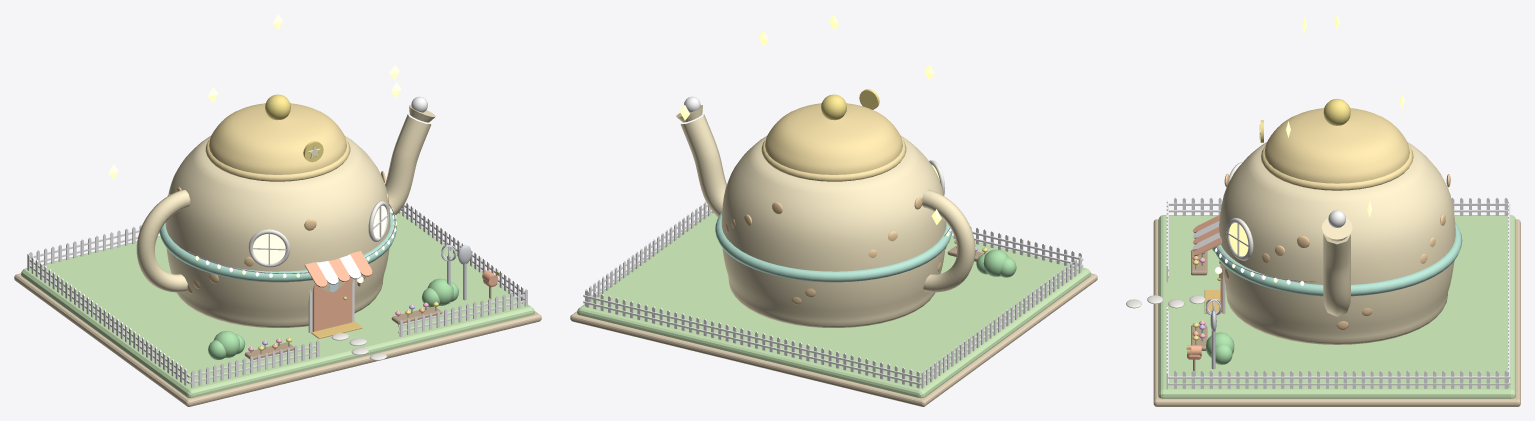
File: building_kitchen_L10.glb
3 views of the same model, side by side, from view 1: azimuth 30°, elevation 25°; view 2: azimuth 150°, elevation 25°; view 3: azimuth 270°, elevation 25° (orthographic). The views are drawn at different scales.
Visible parts, largest first — view 1: Body, kitchen_L10; view 2: Body, kitchen_L10; view 3: Body, kitchen_L10.
Part boxes in pixels (x1,y1,x2,y2): Body: [136, 94, 471, 338]; kitchen_L10: [14, 14, 541, 406]; Body: [676, 94, 975, 327]; kitchen_L10: [570, 14, 1097, 406]; Body: [1192, 98, 1462, 369]; kitchen_L10: [1126, 14, 1520, 406].
Bounding box in the file's own units: 26.61 × 20.56 × 24.29.
